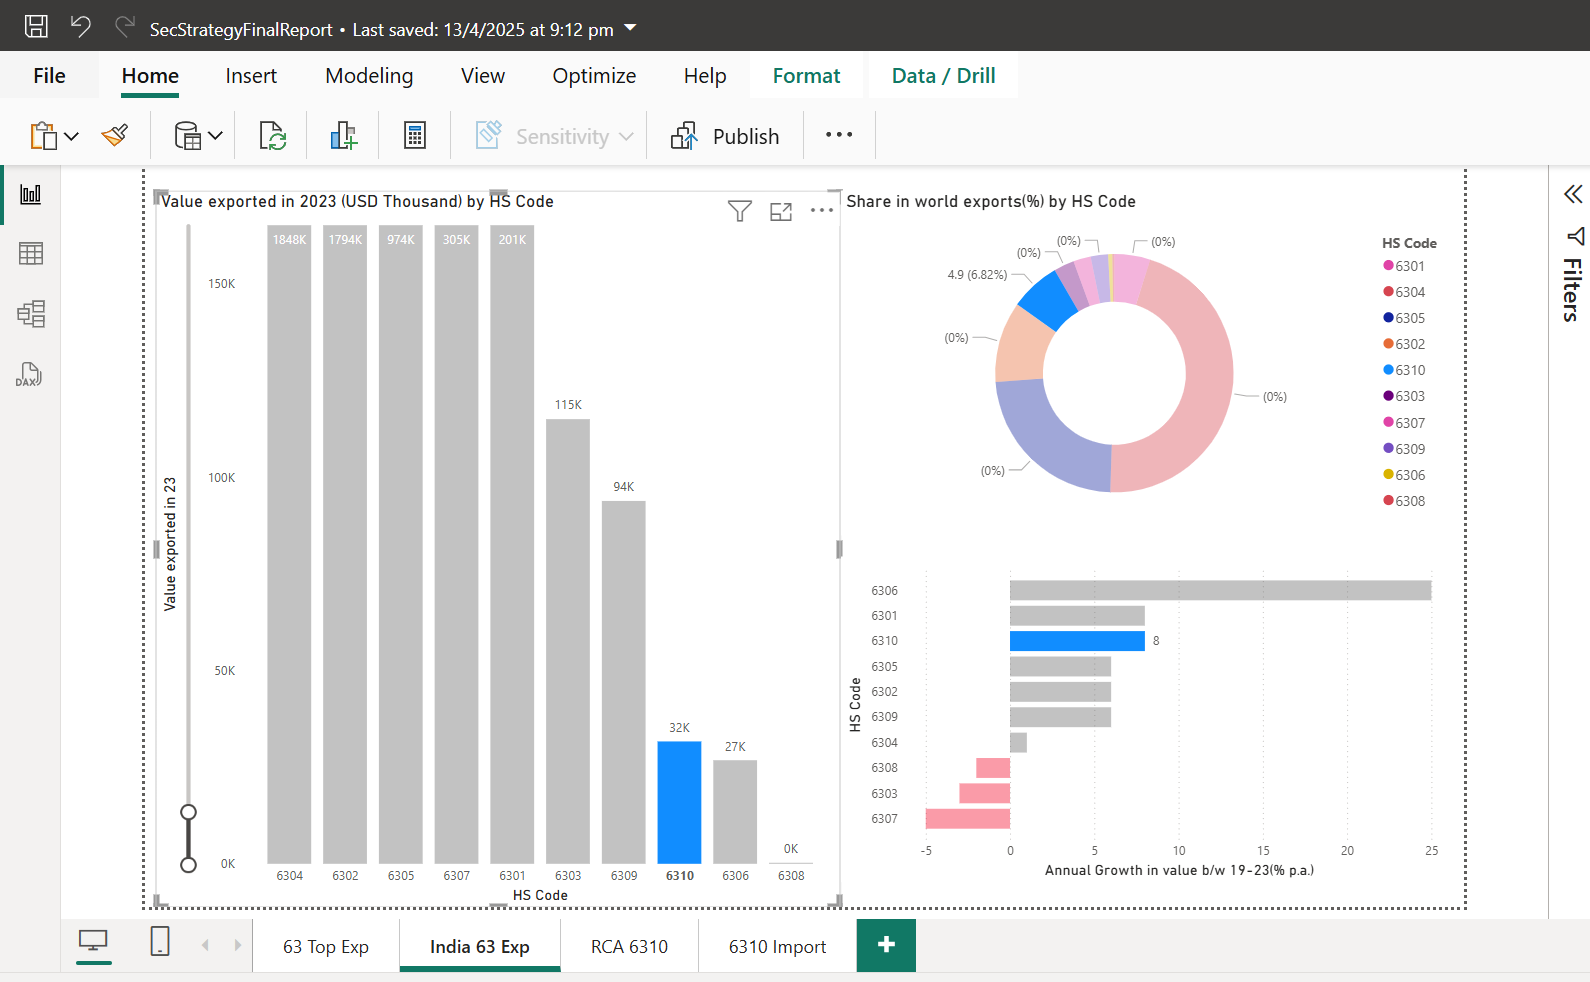

What the dashboard file says about the page in this screenshot:
{"tool":"powerbi","page":{"name":"India 63 Exp","canvas":[1280,720],"ordinal":1},"visuals":[{"type":"clusteredColumnChart","title":"Value exported in 2023 (USD Thousand) by HS Code","fields":{"Category":["All Data.Code"],"Y":["Sum(All Data.Value exported in 23 (USD Thousand))"]},"box":[9.7,24.3,665.5,696.3],"z":0},{"type":"donutChart","title":"Share in world exports(%) by HS Code","fields":{"Category":["All Data.Code"],"Y":["Sum(All Data.Share in world exports(%))"]},"box":[675.4,24.7,604.1,334.8],"z":1000},{"type":"clusteredBarChart","fields":{"Y":["Sum(All Data.Annual Growth in value b/w 19-23(% p.a.))"],"Category":["All Data.HS Code"]},"box":[676,380,604,316],"z":2000}]}

Visuals, with their boxes on the page's 1280x720 design canvas (x1, y1, x2, y2). These are canvas units, not pixel positions in the 1590x982 screenshot, which may show the page scaled, cropped or inside an application window:
"Value exported in 2023 (USD Thousand) by HS Code" clusteredColumnChart: [10, 24, 675, 721]
"Share in world exports(%) by HS Code" donutChart: [675, 25, 1280, 360]
clusteredBarChart - Sum(All Data.Annual Growth in value b/w 19-23(% p.a.)) x All Data.HS Code: [676, 380, 1280, 696]
